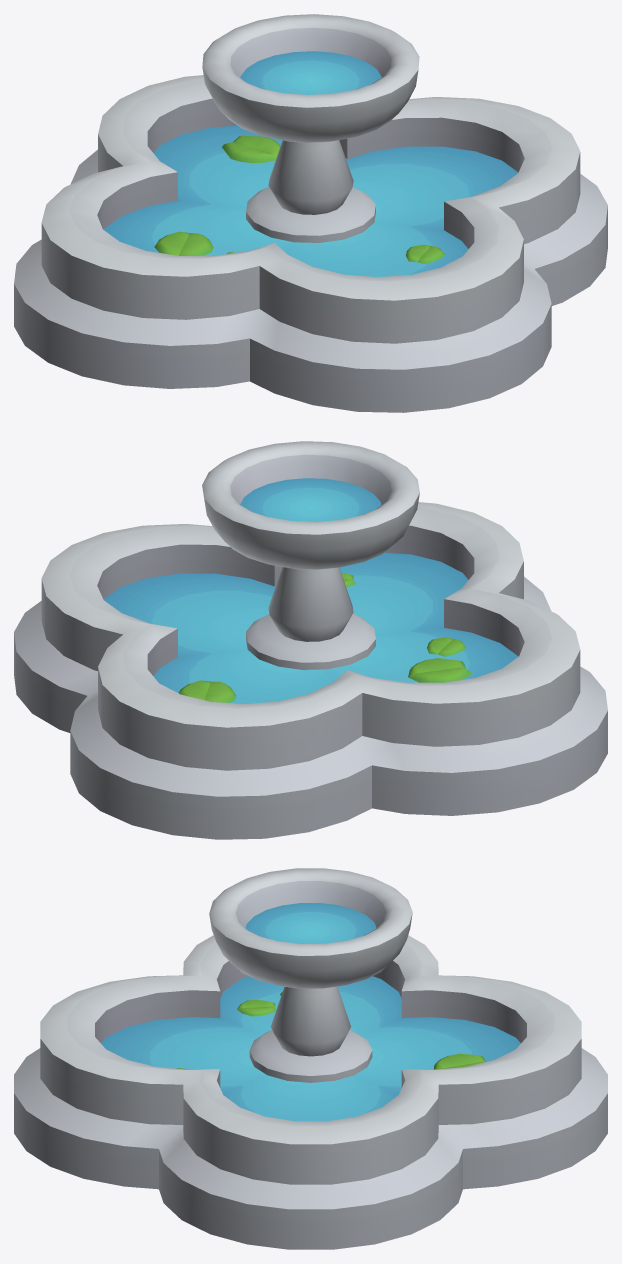
Rendered from fountain.glb.
3 renders of one model, top to bottom at view 1: azimuth 30°, elevation 25°; view 2: azimuth 150°, elevation 25°; view 3: azimuth 270°, elevation 25°, orthographic. The views are drawn at different scales.
Visible parts, largest first — view 1: fountain; view 2: fountain; view 3: fountain.
Boxes of the visible parts, x1,y1,x2,y2 form: fountain: (14,14,607,412); fountain: (14,441,607,839); fountain: (14,868,607,1249).
Size of the model in its own units: 4 by 1.6 by 4.
1 material, 1 textured.
